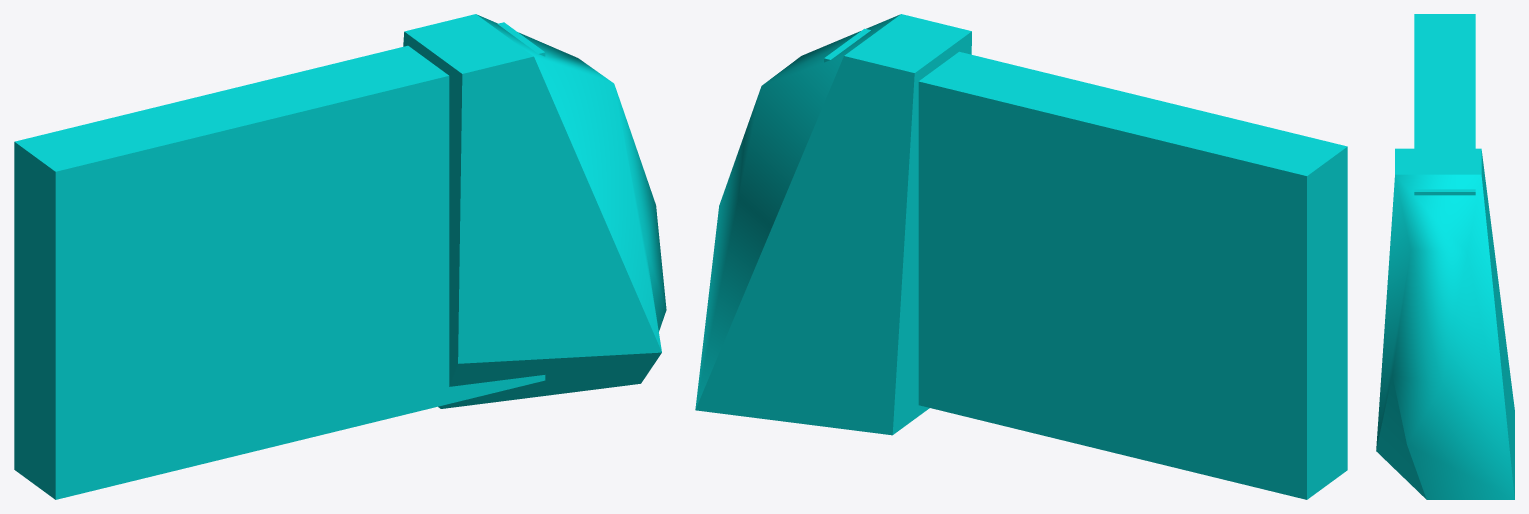
Rendered from SM_Bld_Bridge_L_Broken_End_01_Collision.fbx.
The picture shows the model from 3 angles, left to right: view 1: azimuth 30°, elevation 25°; view 2: azimuth 150°, elevation 25°; view 3: azimuth 270°, elevation 25°; orthographic projection. The views are drawn at different scales.
Visible parts, largest first — view 1: SM_Bld_Bridge_L_Broken_End_01_Collision; view 2: SM_Bld_Bridge_L_Broken_End_01_Collision; view 3: SM_Bld_Bridge_L_Broken_End_01_Collision.
Part boxes in pixels (x1,y1,x2,y2): SM_Bld_Bridge_L_Broken_End_01_Collision: [14, 14, 666, 499]; SM_Bld_Bridge_L_Broken_End_01_Collision: [695, 14, 1347, 499]; SM_Bld_Bridge_L_Broken_End_01_Collision: [1376, 14, 1514, 499].
Bounding box in the file's own units: 390 × 226 × 102.
